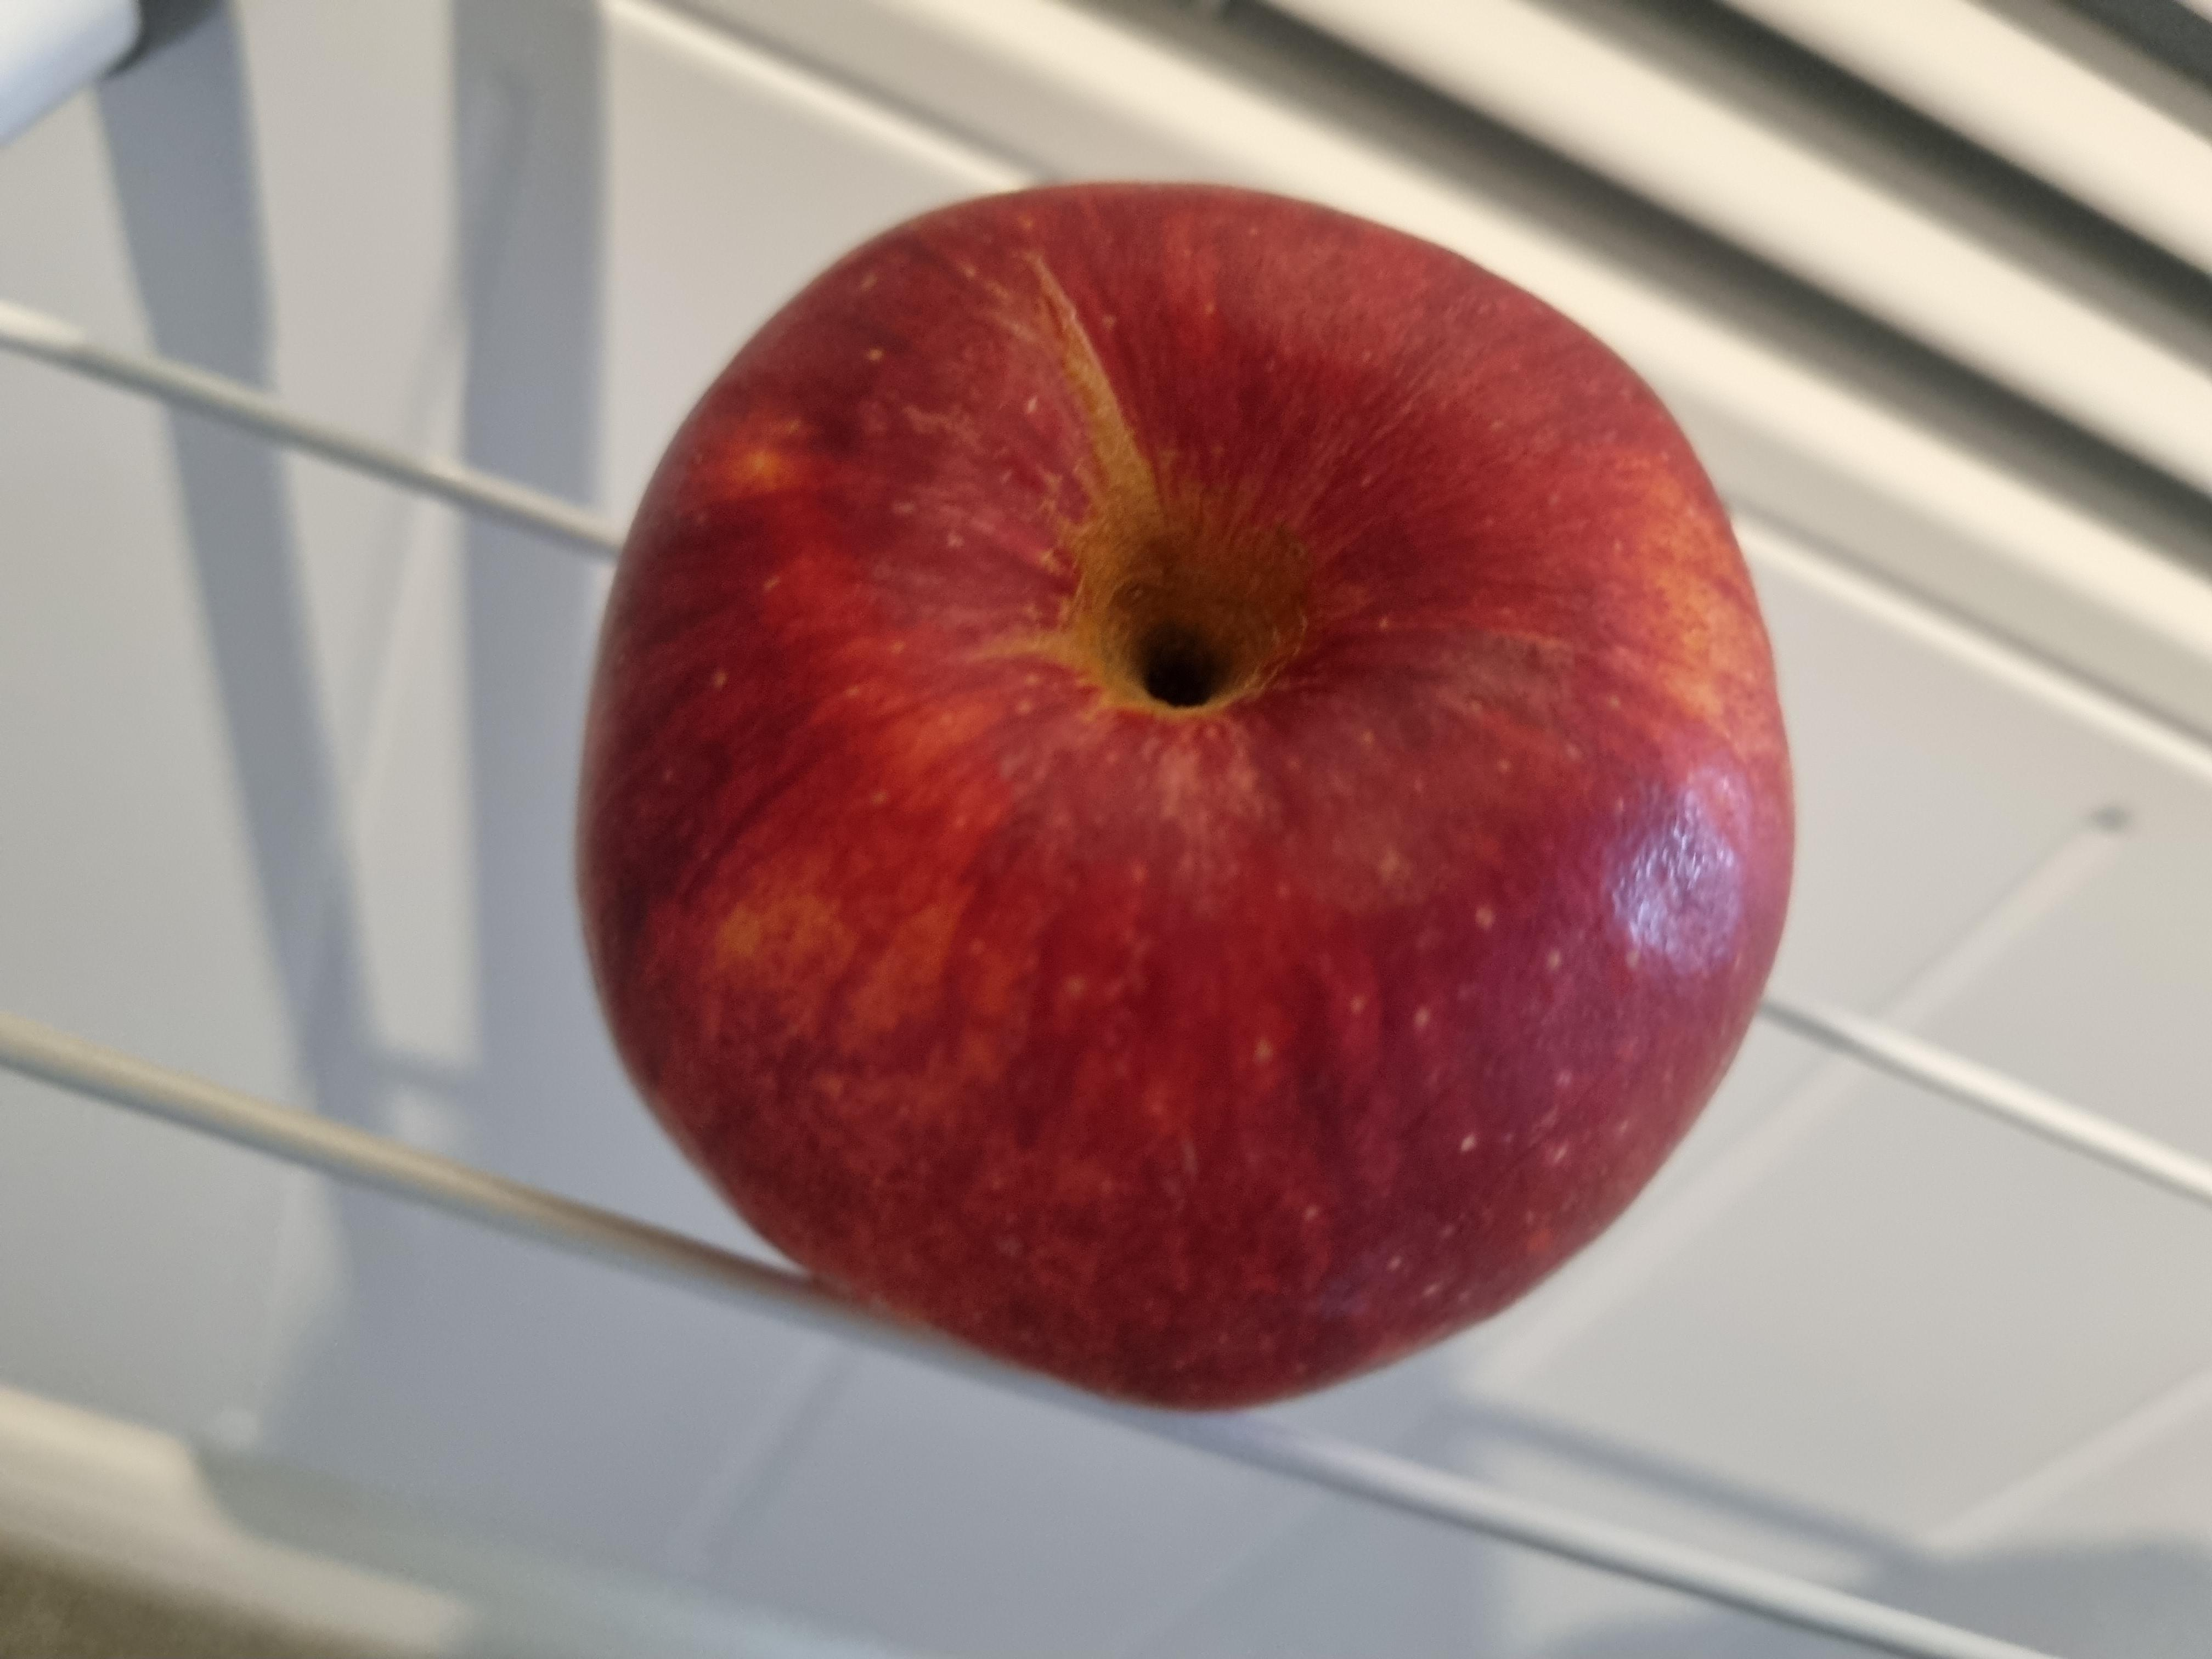Apple: (552, 165, 1814, 1418)
